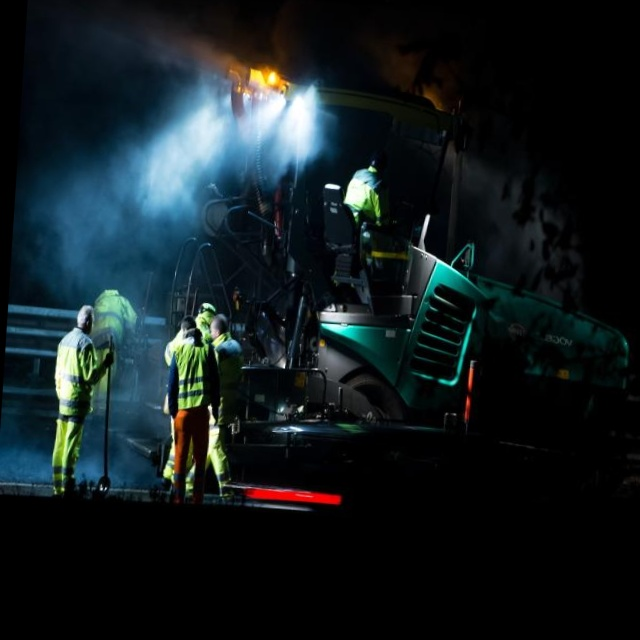Con_Chaleco: (54, 330, 96, 416), (171, 338, 211, 409)
Sin_Casco_Mascarrilla: (76, 304, 95, 331), (180, 313, 197, 336)
